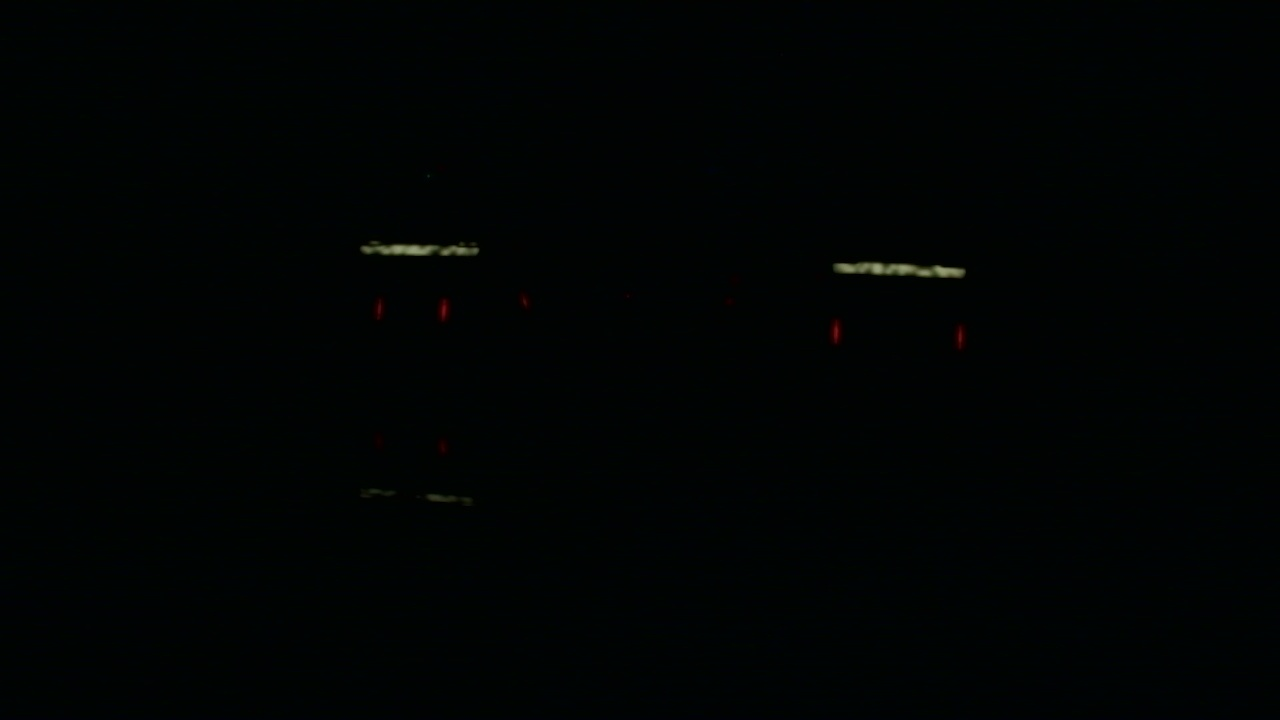lamp: (954, 316, 964, 349), (436, 297, 449, 320), (835, 314, 843, 350), (371, 300, 380, 322)
pair1: (374, 299, 449, 321)
pair2: (833, 316, 964, 350)
